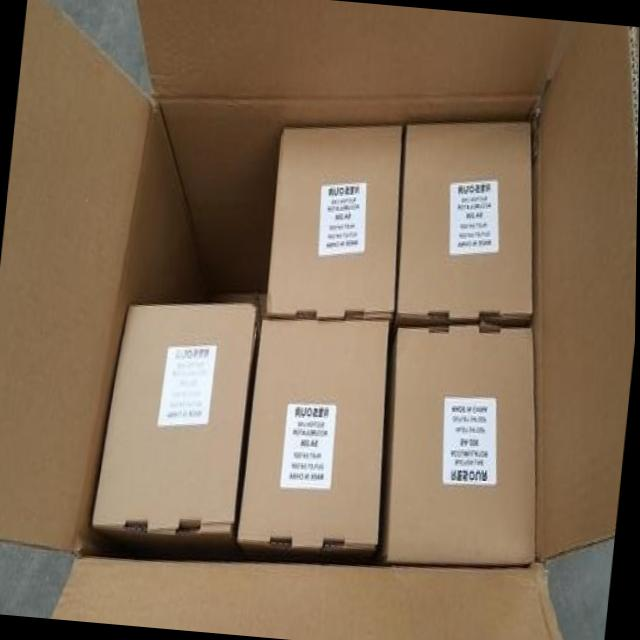box: (94, 306, 259, 534), (384, 327, 535, 563), (237, 318, 388, 549), (395, 124, 532, 320), (267, 127, 402, 318)
